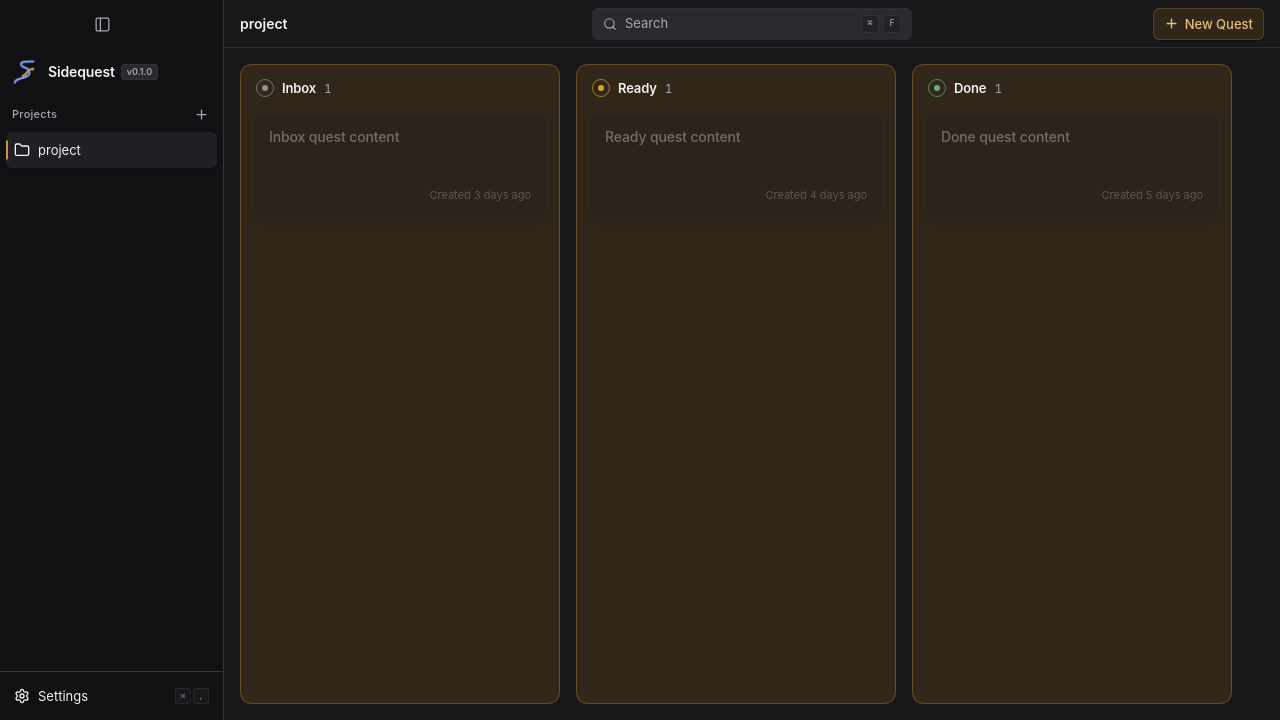
Test case: App › renders_three_groups_and_reopens_a_quest_after_the_drawer_closes
Expected: the heading "Inbox" is shown, 282,78 -> 316,98
Expected: the heading "Ready" is shown, 618,78 -> 657,98
Click the button "Inbox quest content".
click(334, 136)  # box 252,112 -> 548,220
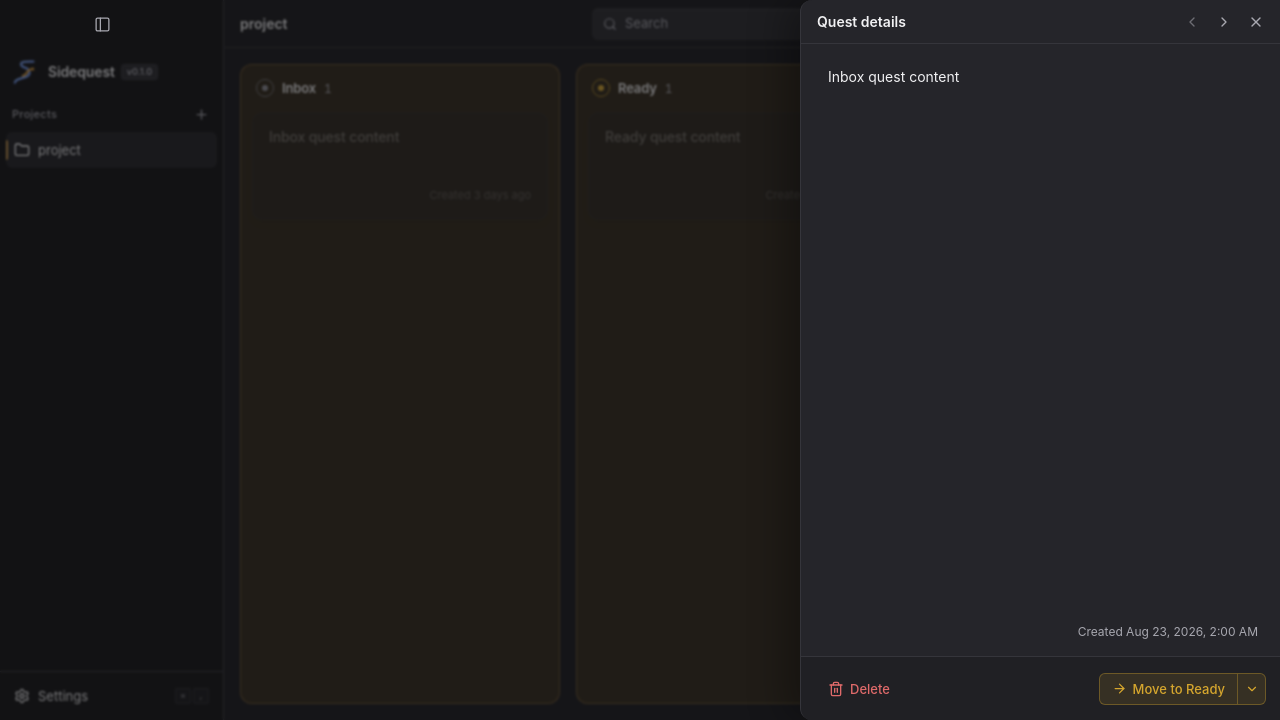
Result: the heading "Quest details" is shown at 817,12 -> 906,32
Click the button named "Close Quest details".
click(1256, 22)  # box 1242,8 -> 1270,36
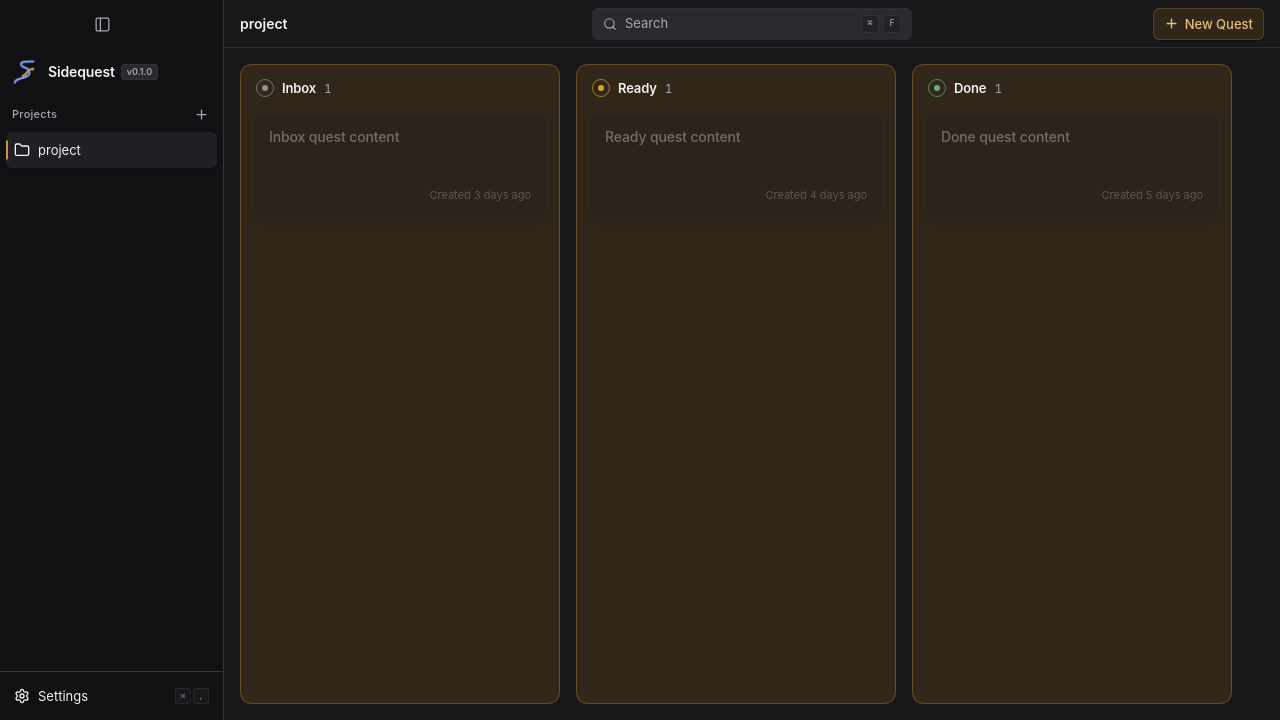
Result: the heading "Quest details" is gone
Click the button "Inbox quest content".
click(334, 136)  # box 252,112 -> 548,220
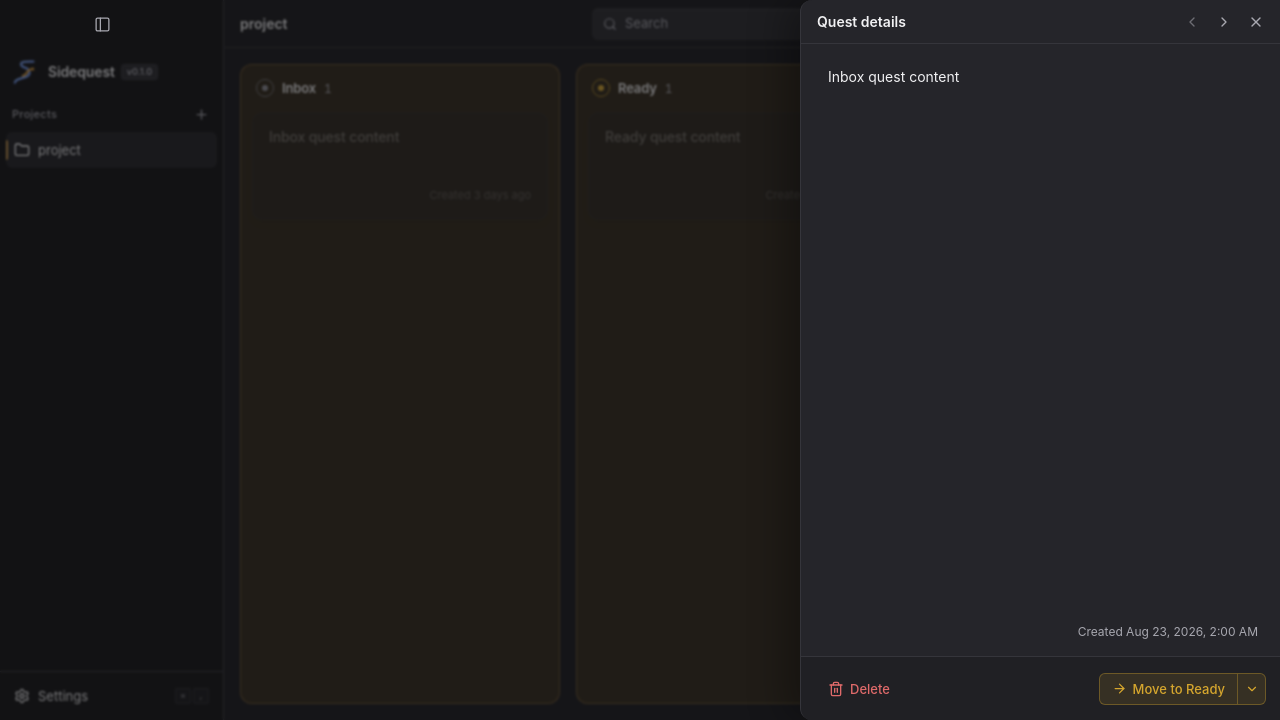
Result: the heading "Quest details" is shown at 817,12 -> 906,32
